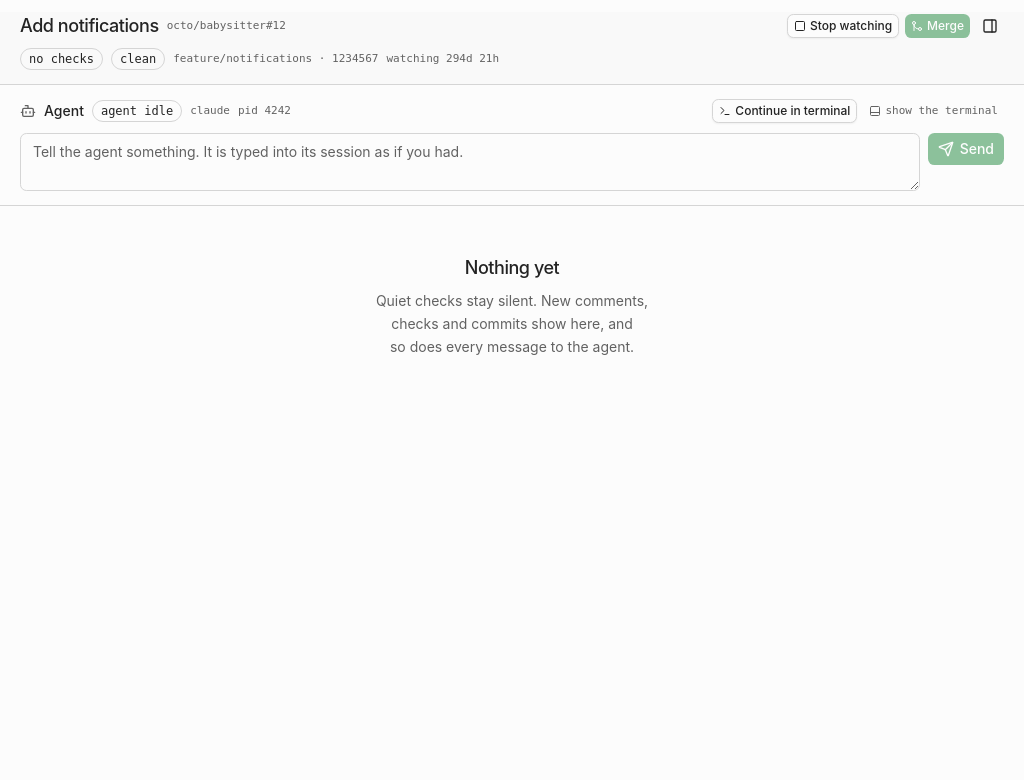
Test: the panel holds the copy of the defaults of this watch
The width and height of the screenshot is (1024, 780).
Click the button named "Watch settings".
click(990, 26)  # box [976,12,1004,40]
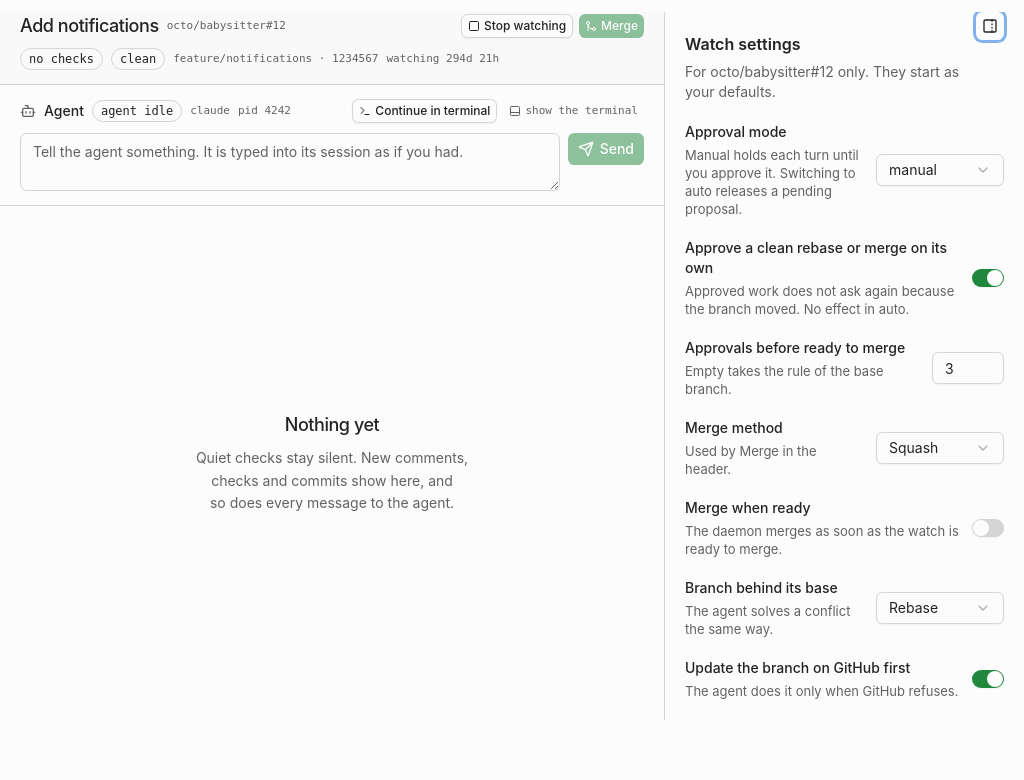
Result: the dropdown named "Approval mode" reads "manual" at [876,154,1004,186]
Result: the 1st switch named "Approve a clean rebase or merge on its own" is checked at [972,269,1004,287]
Result: the number field labelled "Approvals before ready to merge" holds "3" at [932,352,1004,384]
